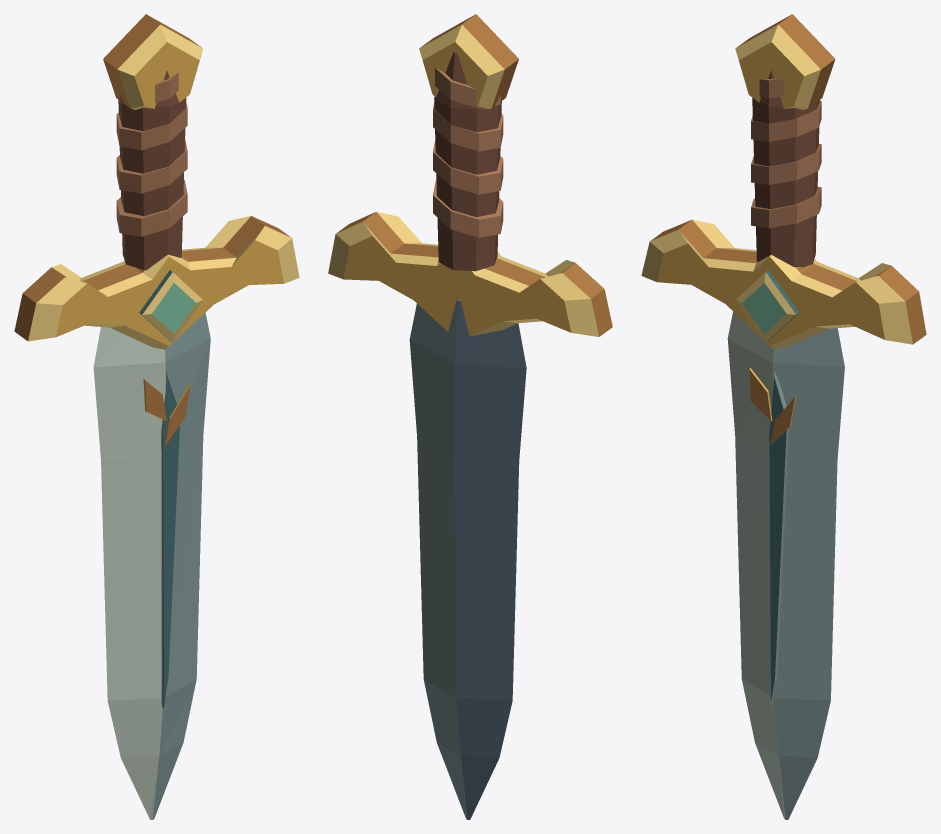
Rendered from sword.obj.
The picture shows the model from 3 angles, left to right: view 1: azimuth 30°, elevation 25°; view 2: azimuth 150°, elevation 25°; view 3: azimuth 330°, elevation 25°; orthographic projection.
Visible parts, largest first — view 1: Faceted_silver_blade, Branch_guard, Leather_grip, Pinecone_pommel, Fuller, Guard_talisman, Wrap_3, Wrap_2, Wrap_1, Laurel_inlay, Laurel_tip, Wrap_0; view 2: Faceted_silver_blade, Branch_guard, Leather_grip, Pinecone_pommel, Wrap_3, Wrap_2, Wrap_1, Wrap_0; view 3: Faceted_silver_blade, Branch_guard, Leather_grip, Pinecone_pommel, Fuller, Guard_talisman, Wrap_3, Wrap_2, Wrap_1, Laurel_inlay.
Part boxes in pixels (left/top/right/bottom): Faceted_silver_blade: left=93, top=312, right=210, bottom=819; Branch_guard: left=14, top=216, right=299, bottom=349; Leather_grip: left=118, top=70, right=186, bottom=270; Pinecone_pommel: left=103, top=14, right=202, bottom=109; Fuller: left=161, top=371, right=179, bottom=708; Guard_talisman: left=139, top=270, right=202, bottom=342; Wrap_3: left=116, top=180, right=187, bottom=236; Wrap_2: left=116, top=139, right=187, bottom=193; Wrap_1: left=116, top=101, right=187, bottom=150; Laurel_inlay: left=143, top=379, right=166, bottom=420; Laurel_tip: left=164, top=384, right=190, bottom=445; Wrap_0: left=119, top=72, right=178, bottom=104; Faceted_silver_blade: left=409, top=300, right=526, bottom=819; Branch_guard: left=328, top=211, right=612, bottom=336; Leather_grip: left=434, top=52, right=501, bottom=271; Pinecone_pommel: left=419, top=14, right=518, bottom=109; Wrap_3: left=433, top=181, right=503, bottom=237; Wrap_2: left=433, top=140, right=503, bottom=194; Wrap_1: left=433, top=102, right=503, bottom=151; Wrap_0: left=435, top=68, right=501, bottom=108; Faceted_silver_blade: left=727, top=311, right=844, bottom=819; Branch_guard: left=641, top=219, right=926, bottom=349; Leather_grip: left=752, top=70, right=819, bottom=267; Pinecone_pommel: left=735, top=14, right=835, bottom=109; Fuller: left=769, top=372, right=789, bottom=707; Guard_talisman: left=735, top=270, right=798, bottom=342; Wrap_3: left=751, top=187, right=821, bottom=228; Wrap_2: left=751, top=143, right=821, bottom=184; Wrap_1: left=751, top=100, right=821, bottom=141; Laurel_inlay: left=749, top=368, right=772, bottom=421.
Bounding box in the file's own units: 1.03 × 2.9 × 0.2594.
